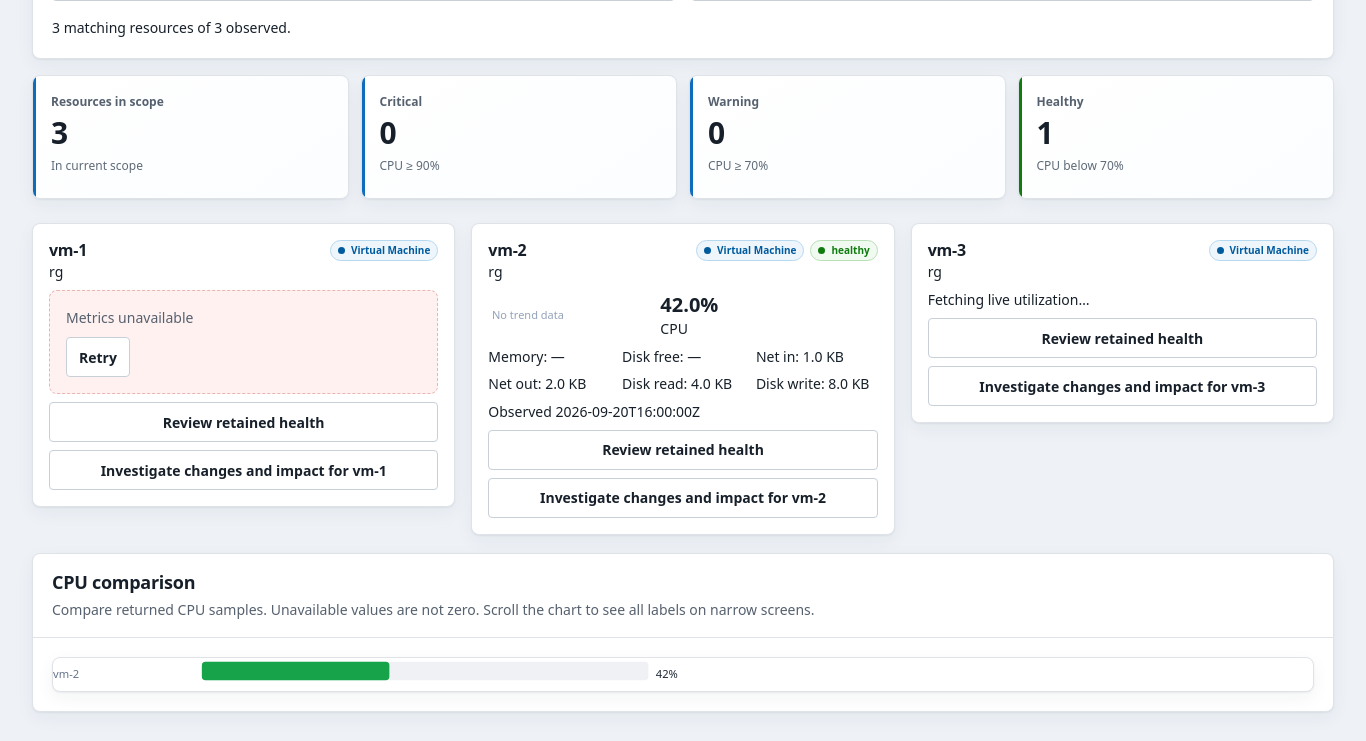
Test case: ResourceHealthPage inventory-first hydration › isolates a failed card and retries only that resource
(page scrolled)
Expected: the message named "Health error for vm-1" shows "Metrics unavailable", [66,308,193,327]
Expected: the text "42.0%" is shown, [660,290,718,319]
Step 1. Click the button with aria-label "Retry health for vm-1" → click(98, 357), box [66,337,130,377]
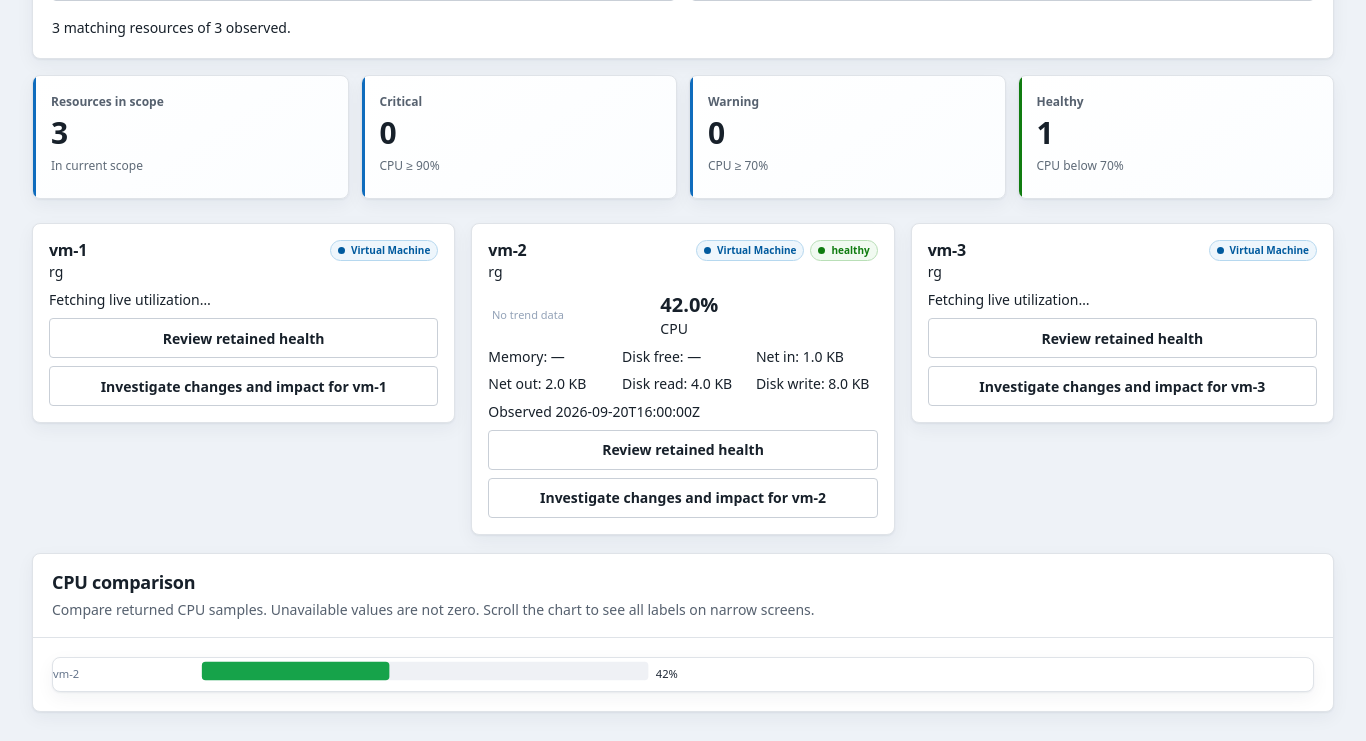
Now the message named "Loading health for vm-1" is shown, box [49,290,211,309]
